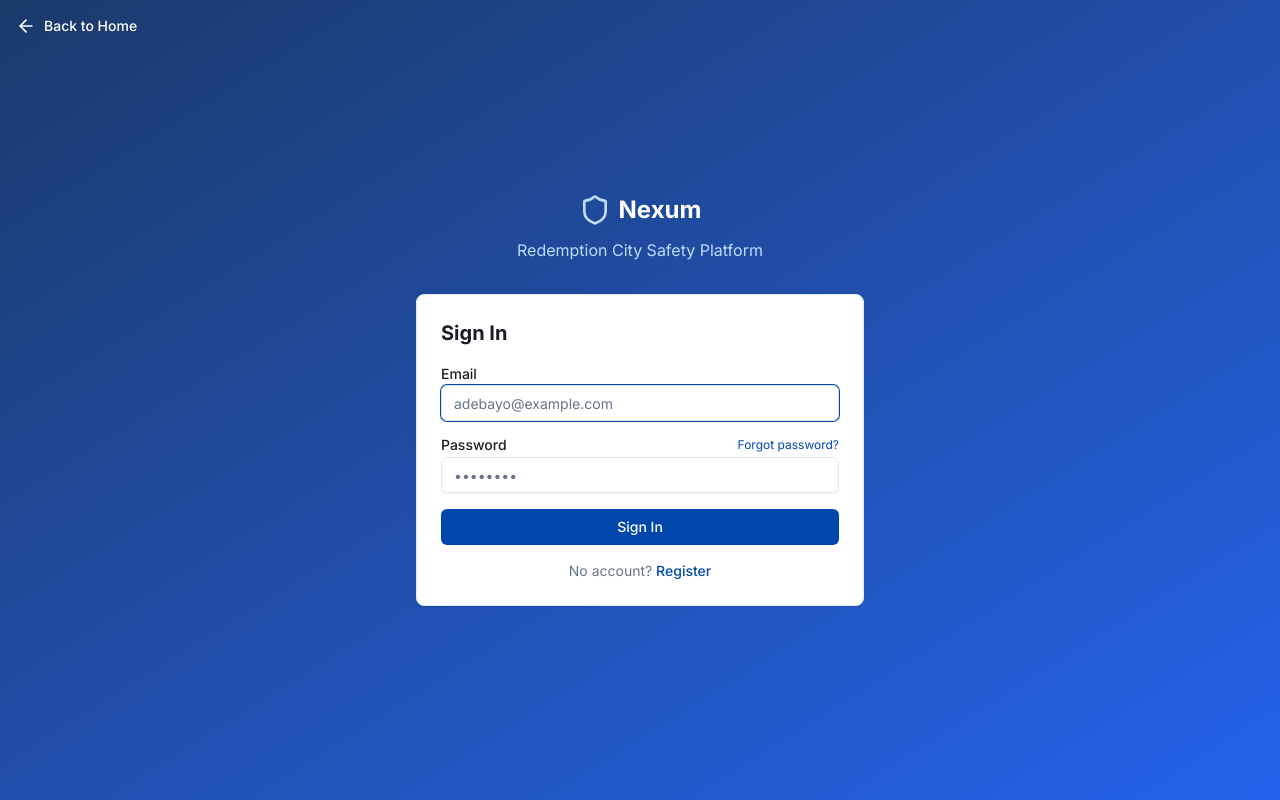
Test: Authentication › login with invalid credentials shows error
Type "notauser@test.com" into the field with placeholder "adebayo@example.com" at (640, 403), box left=441, top=385, right=839, bottom=421
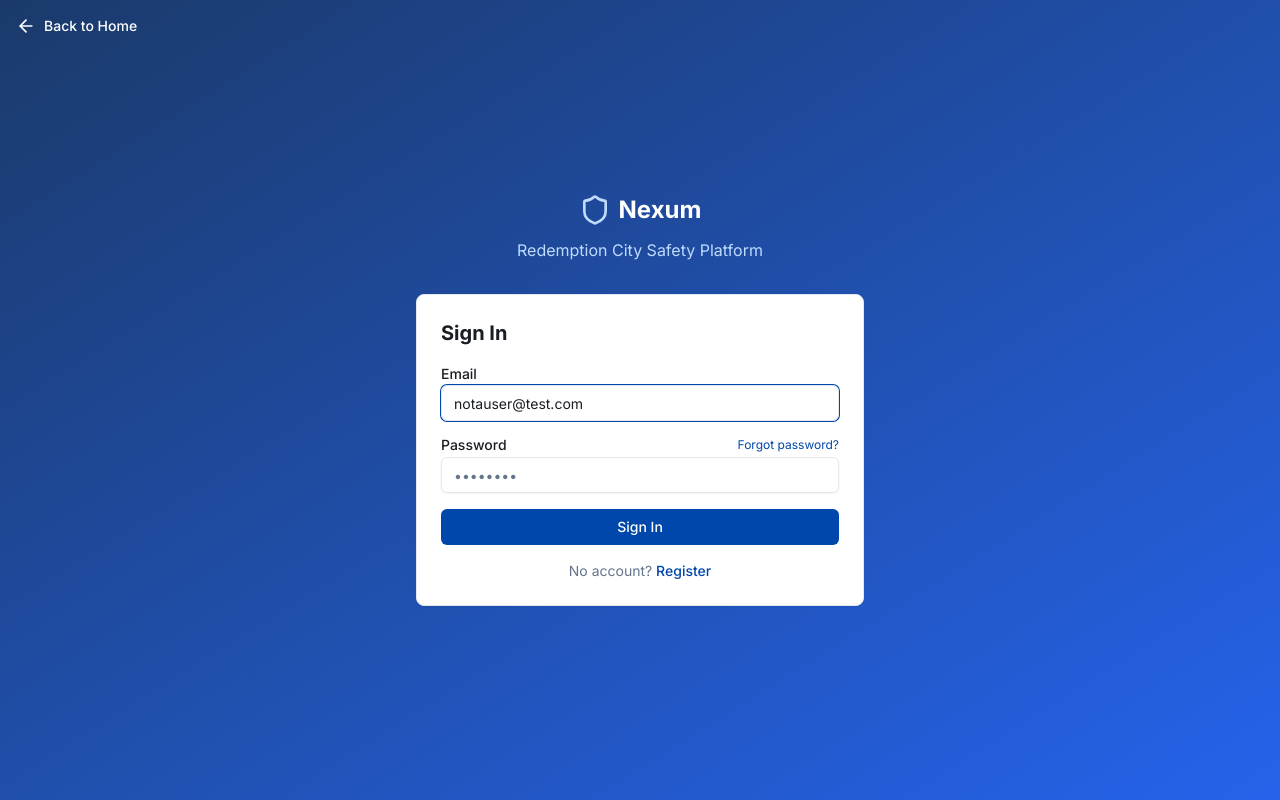
Type "wrongpassword" into the password field with placeholder "••••••••" at (640, 475), box left=441, top=457, right=839, bottom=493
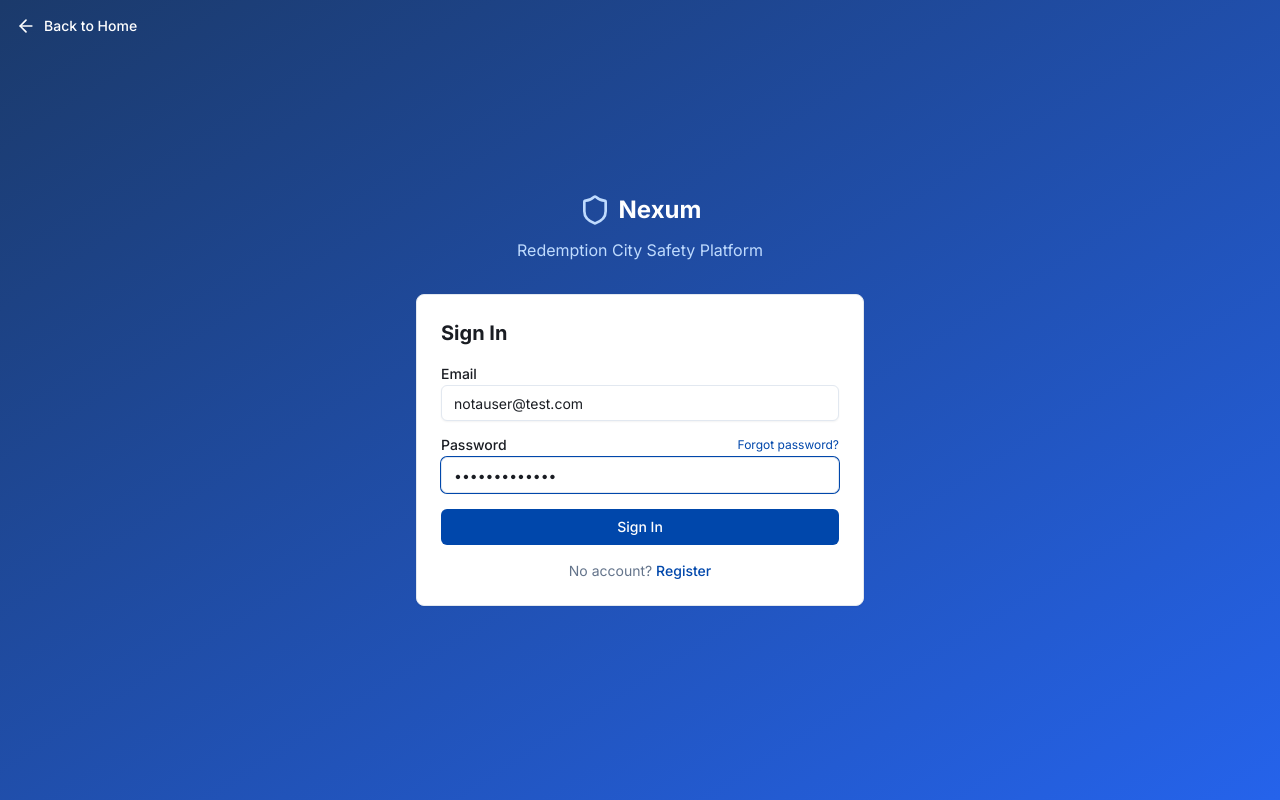
Click the submit button at (640, 527), box left=441, top=509, right=839, bottom=545
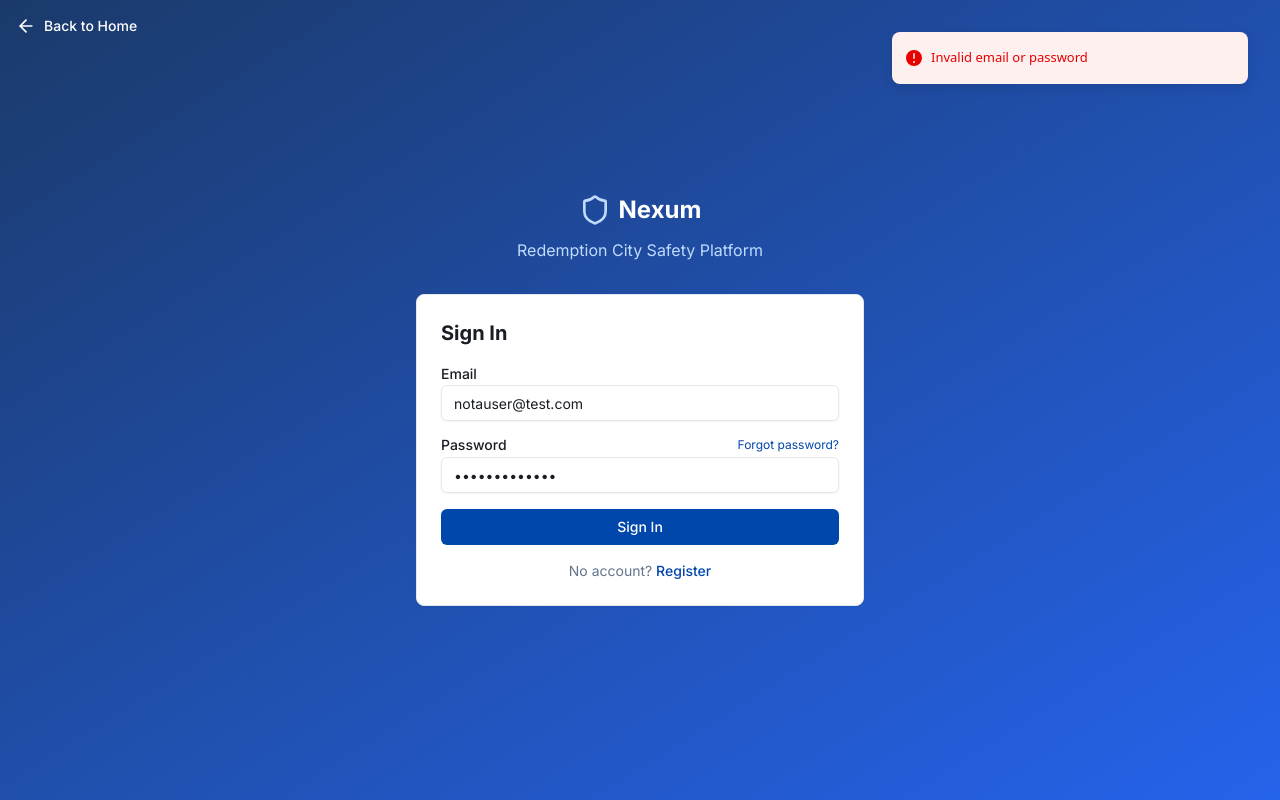
Now the text "Invalid email or password" is shown, box left=931, top=48, right=1088, bottom=68
